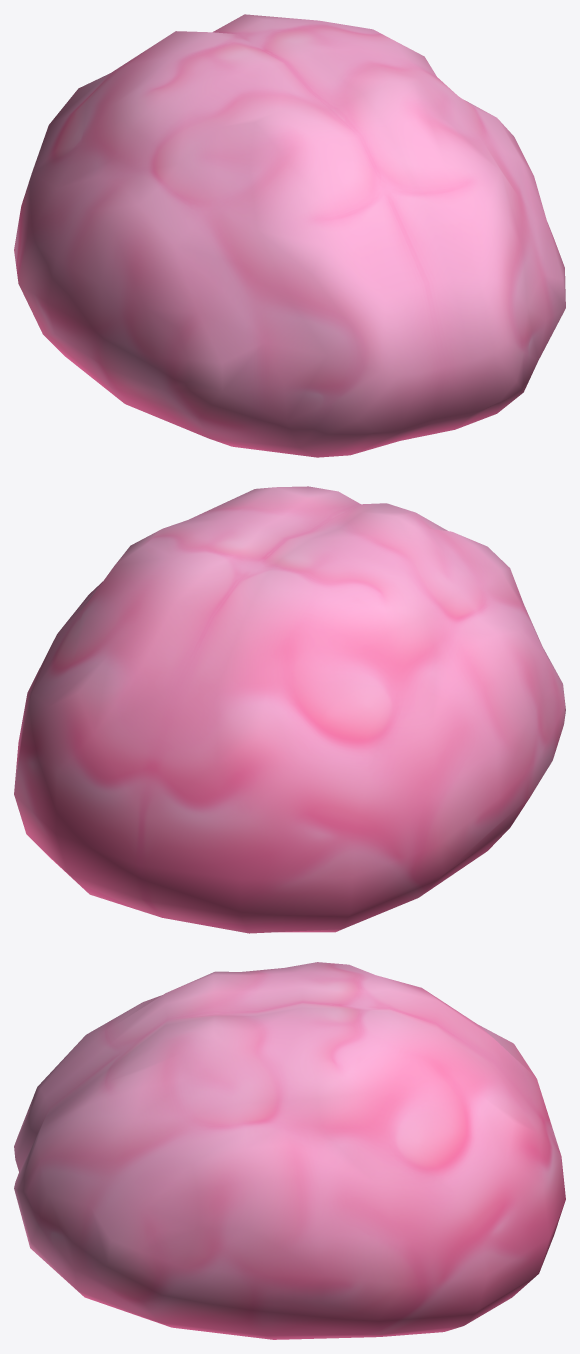
File: Brain.FBX
3 views of the same model, one above another, from view 1: azimuth 30°, elevation 25°; view 2: azimuth 150°, elevation 25°; view 3: azimuth 270°, elevation 25° (orthographic). The views are drawn at different scales.
Parts seen in each view (by area): view 1: Brain; view 2: Brain; view 3: Brain.
Boxes of the visible parts, x1,y1,x2,y2 form: Brain: [14, 14, 565, 457]; Brain: [14, 486, 565, 933]; Brain: [14, 962, 565, 1339].
Size of the model in its own units: 74.77 by 50.75 by 87.88.
